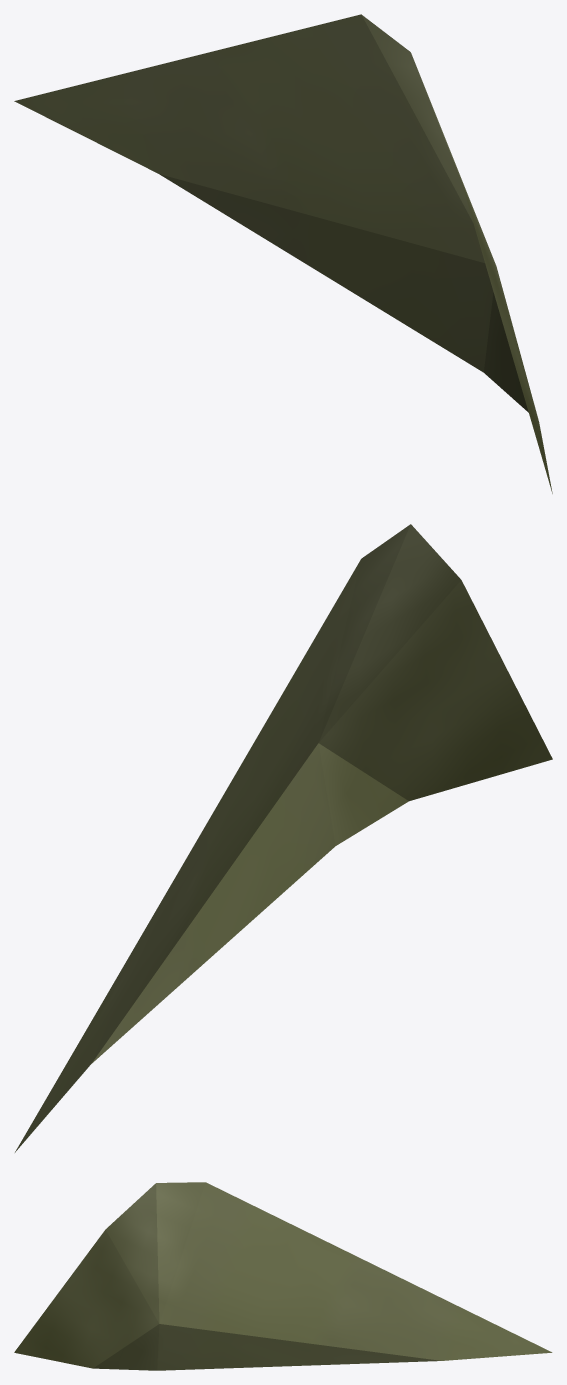
3 renders of one model, top to bottom at view 1: azimuth 30°, elevation 25°; view 2: azimuth 150°, elevation 25°; view 3: azimuth 270°, elevation 25°, orthographic. The views are drawn at different scales.
Size of the model in its own units: 0.0298 by 0.1091 by 0.3126.
1 material, 1 textured.
